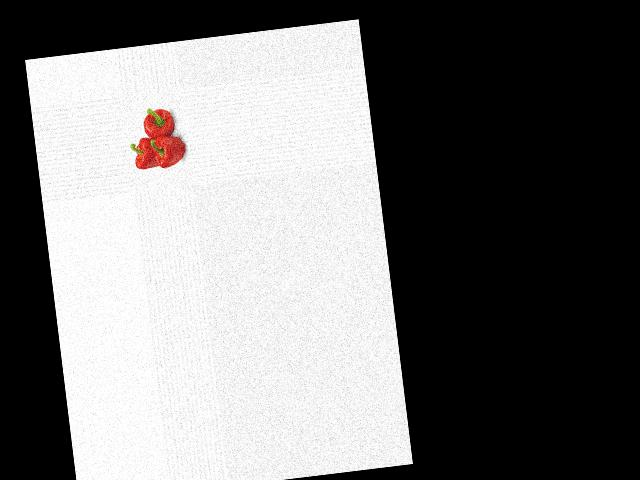bell_pepper: (137, 103, 178, 143)
